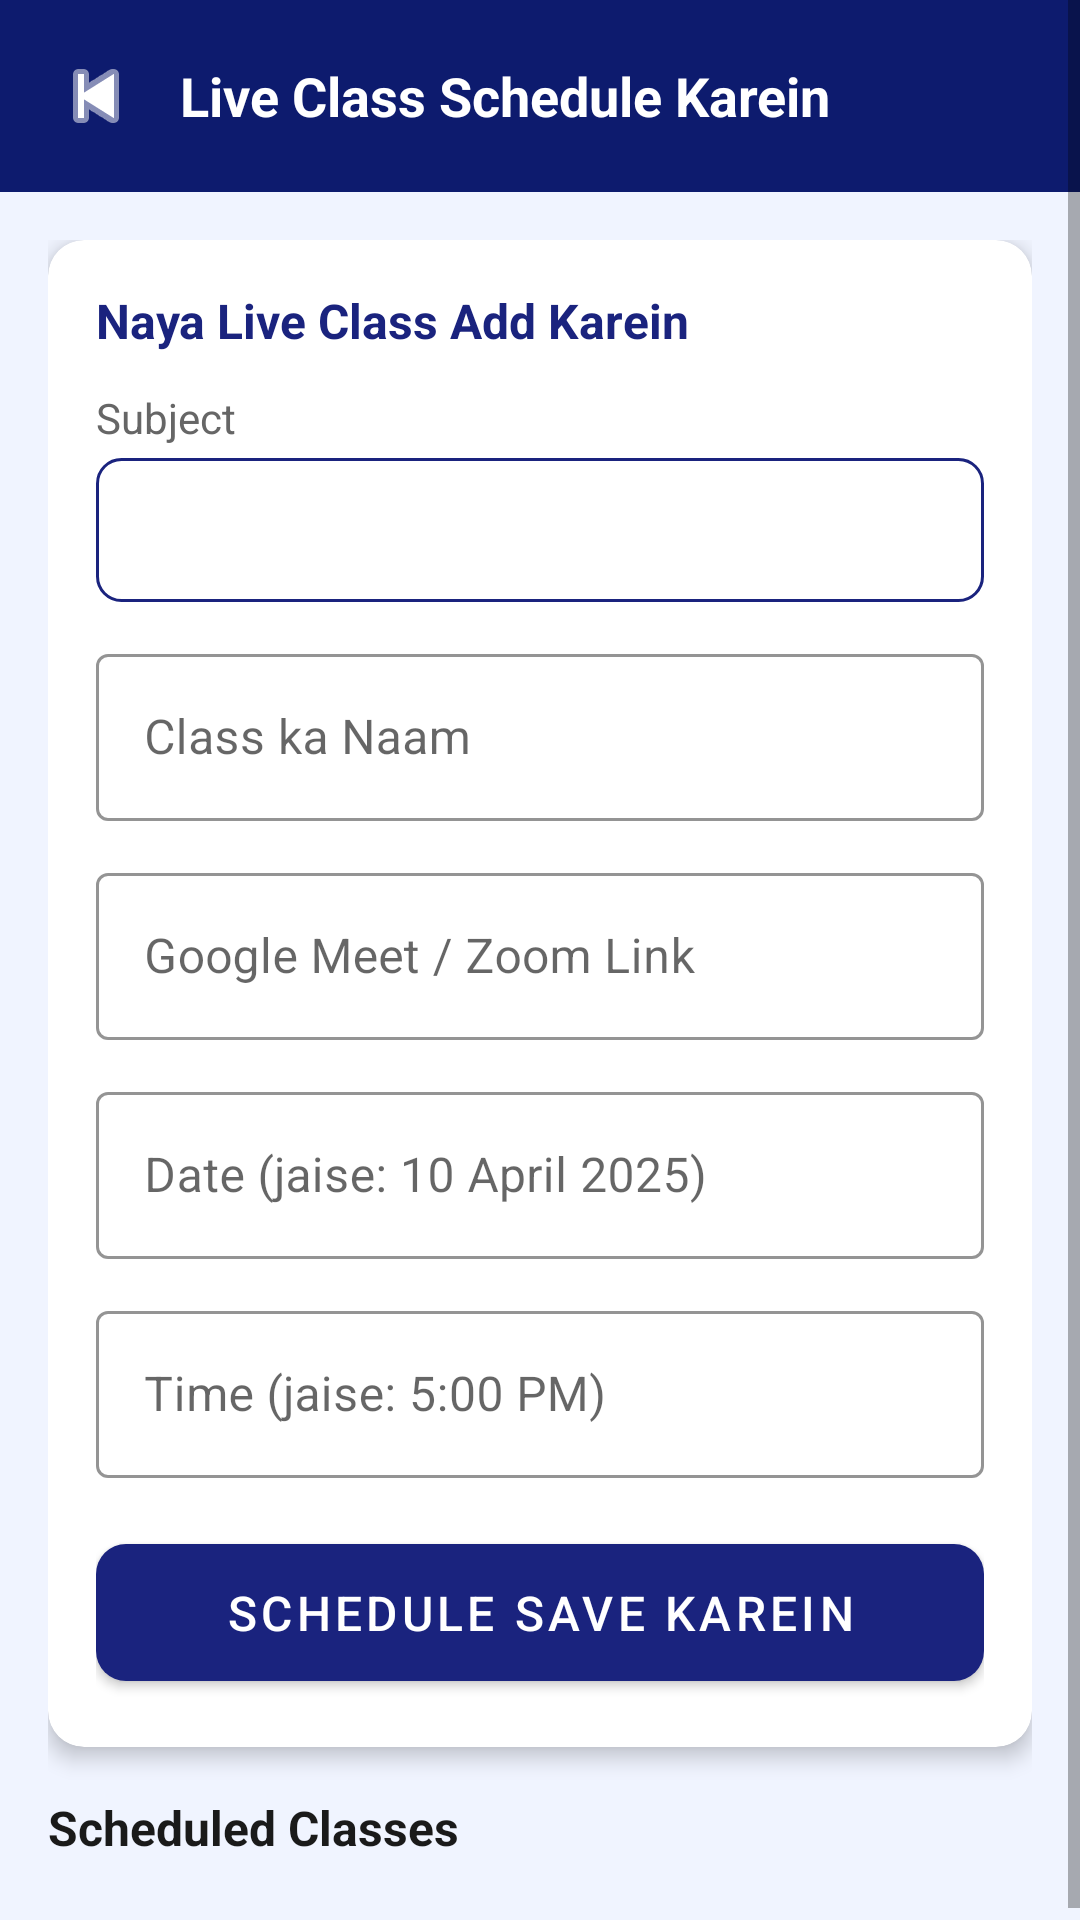

Named icons in this screenshot (1080×1920) and their centers, (x=x, y=y):
previous: (x=96, y=96)
